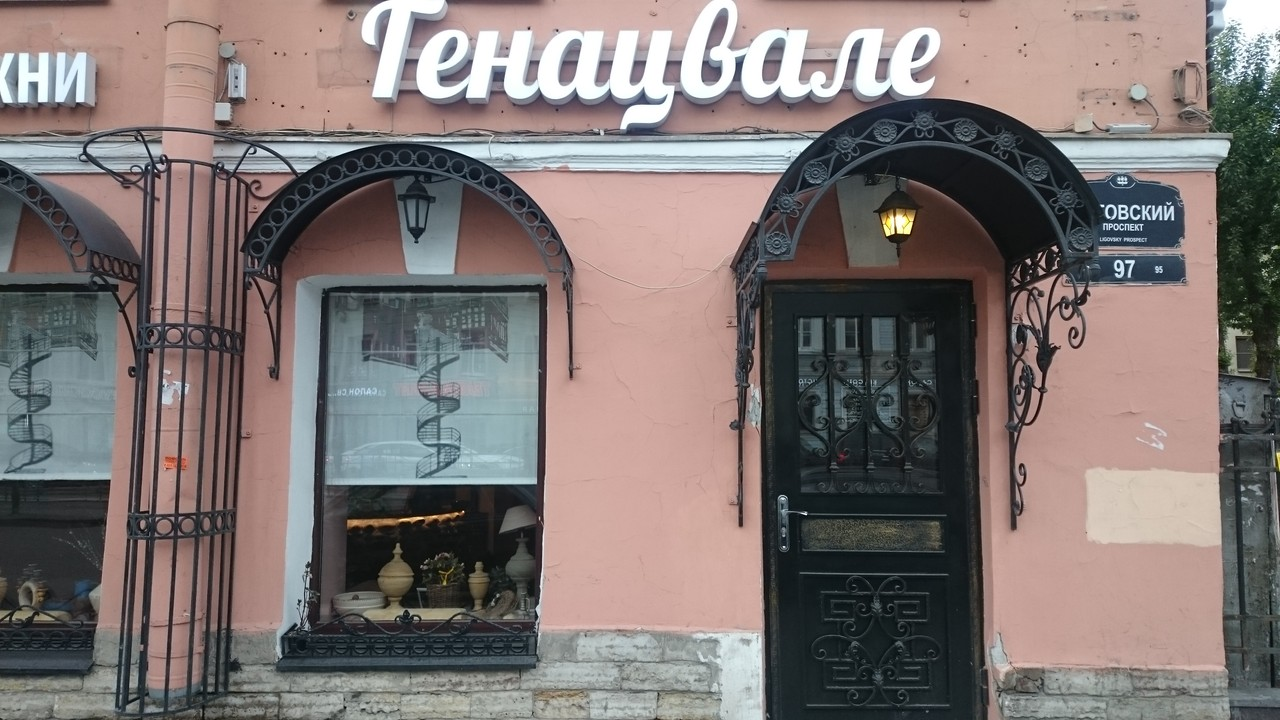door: (768, 288, 979, 720)
signboard: (359, 1, 940, 105)
win_ad: (323, 288, 538, 483)
window: (293, 269, 540, 661)
